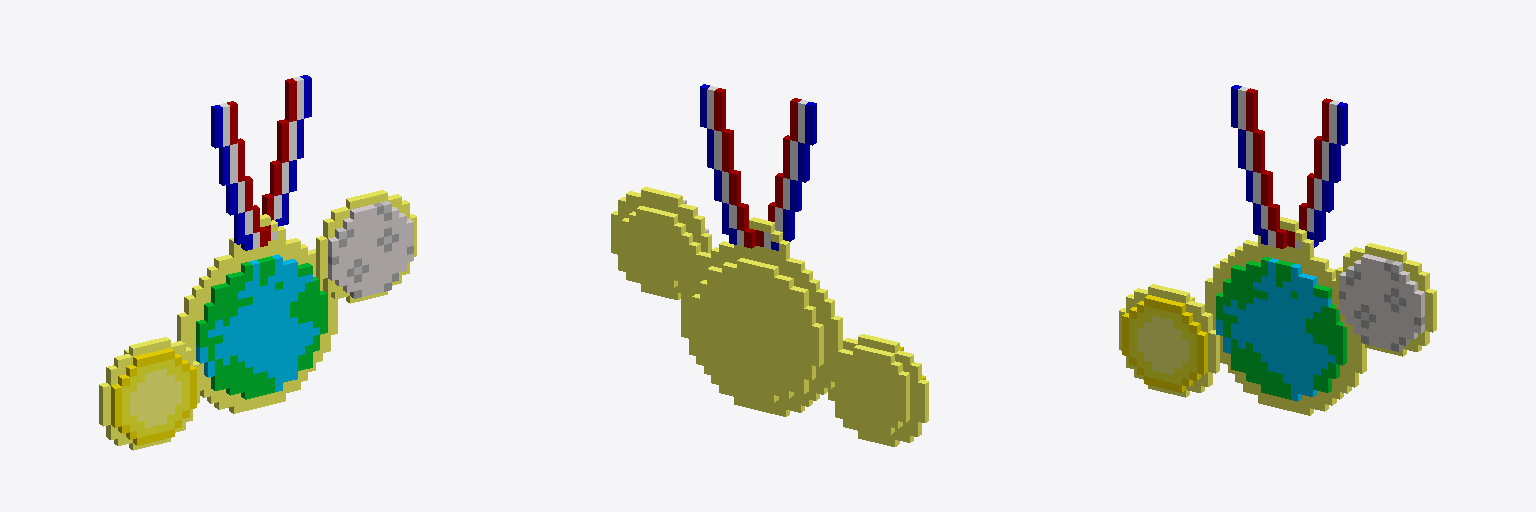
3 renders of one model, left to right at view 1: azimuth 30°, elevation 25°; view 2: azimuth 150°, elevation 25°; view 3: azimuth 330°, elevation 25°, orthographic.
Parts seen in each view (by area): view 1: object 1; view 2: object 1; view 3: object 1.
Part boxes in pixels (x1,y1,x2,y2): object 1: (99,75,416,450); object 1: (611,84,928,446); object 1: (1119,85,1436,415).
Bounding box in the file's own units: 4.2 × 4.1 × 0.4.
1 materials, 1 textured.